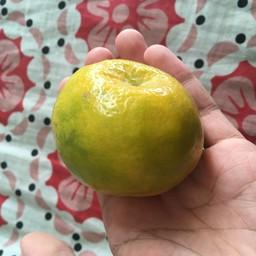Good_orange: (49, 56, 210, 203)
